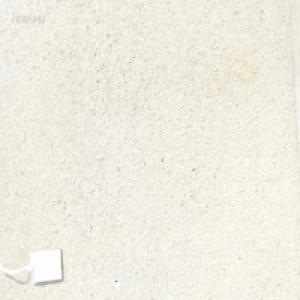LuggageTag: (4, 244, 64, 286)
